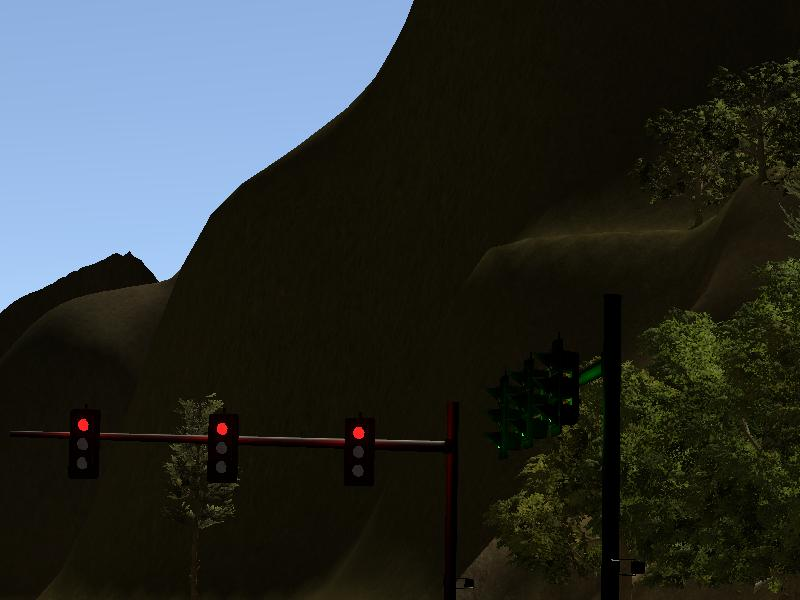Red: (208, 413, 237, 484), (70, 409, 99, 479), (345, 420, 375, 485)
